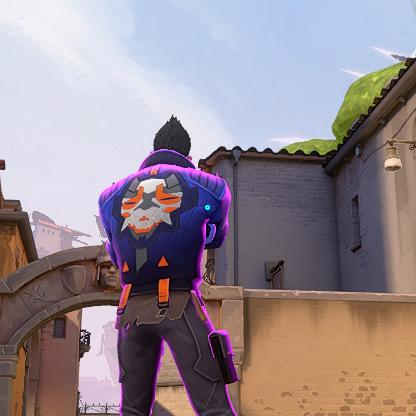enemyBody: (114, 182, 220, 271)
